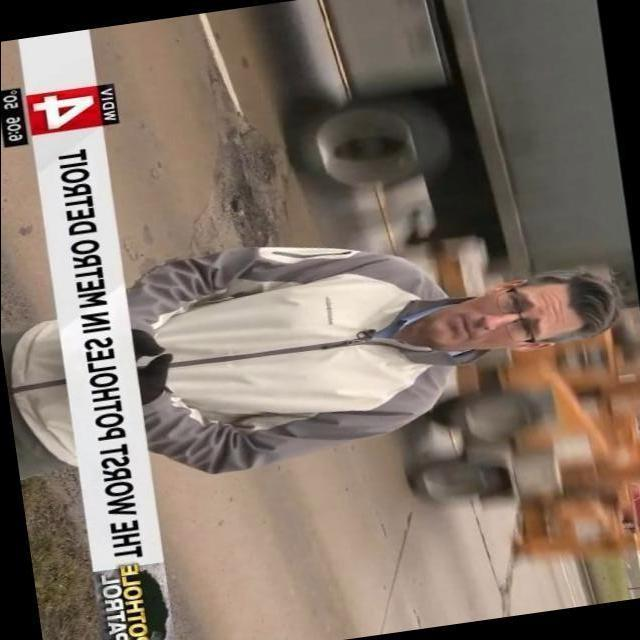pothole: (203, 94, 285, 243)
